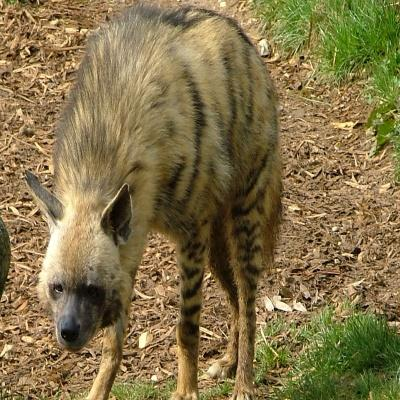hyenas: (12, 0, 311, 400)
